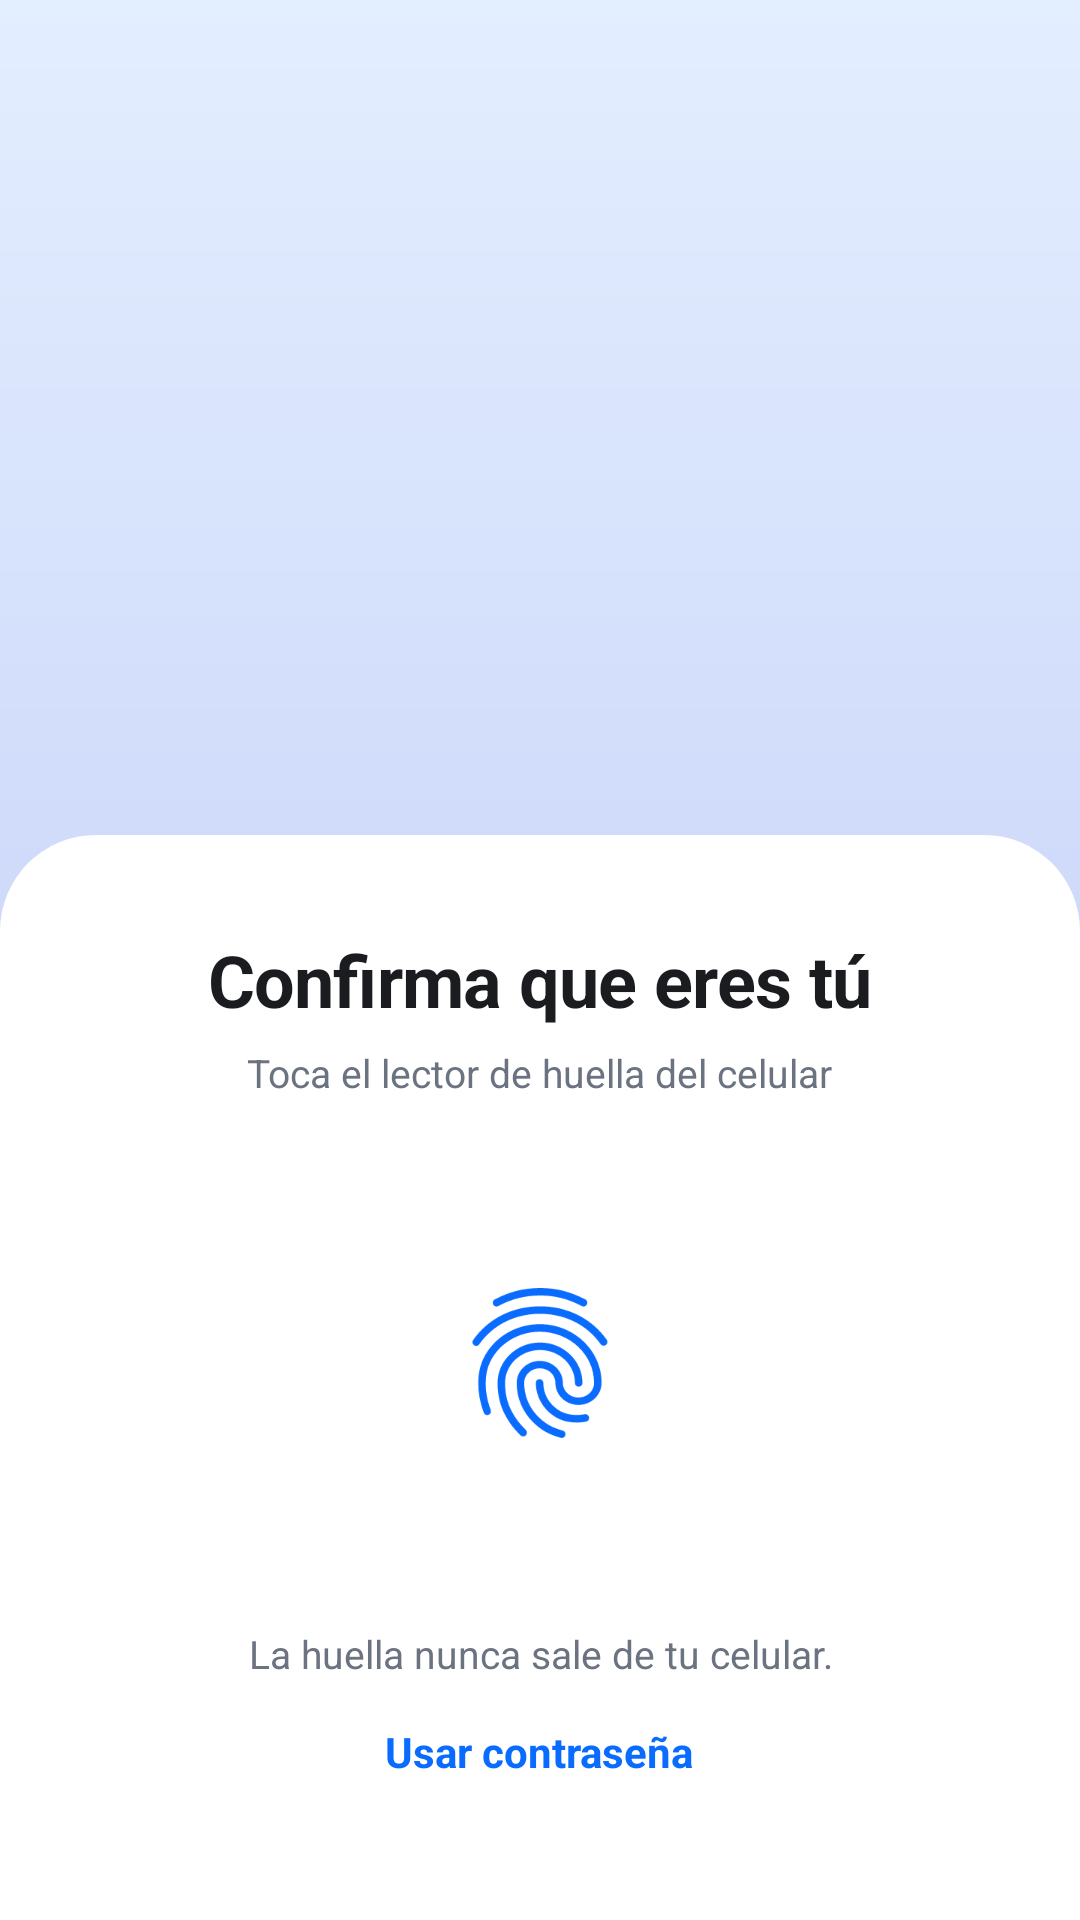

Locate icon controls on the screen. Image size 1080w x 1920h, boxes as (x1, y1, x2, y2).
Usar huella: (472, 1288, 608, 1438)
